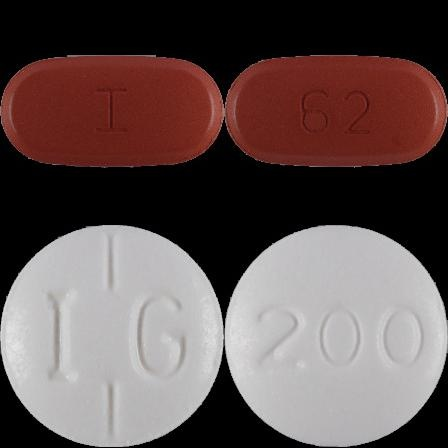63629-5271: (0, 0, 224, 224)
